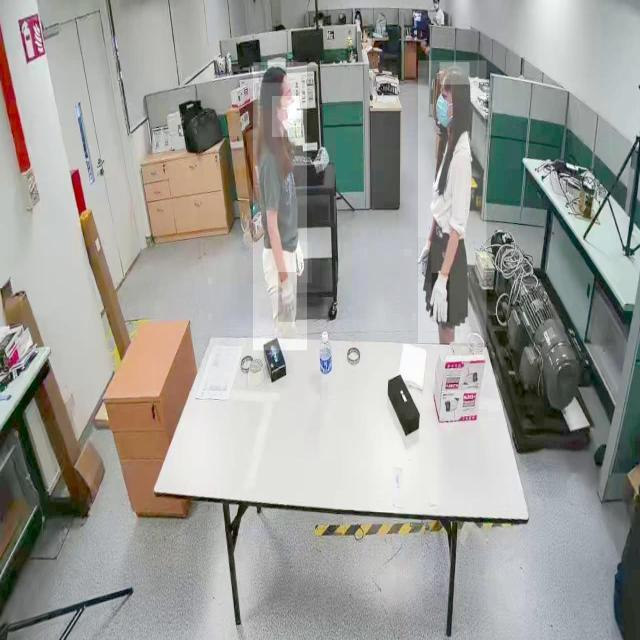face_mask: (272, 96, 301, 137), (435, 79, 451, 133)
hand_glove: (278, 272, 296, 323), (432, 273, 450, 323), (293, 242, 313, 284), (417, 238, 431, 284)
head_nohelmet: (440, 62, 470, 86), (258, 65, 288, 83), (355, 8, 361, 14)
person: (418, 60, 487, 344), (253, 62, 307, 351)
